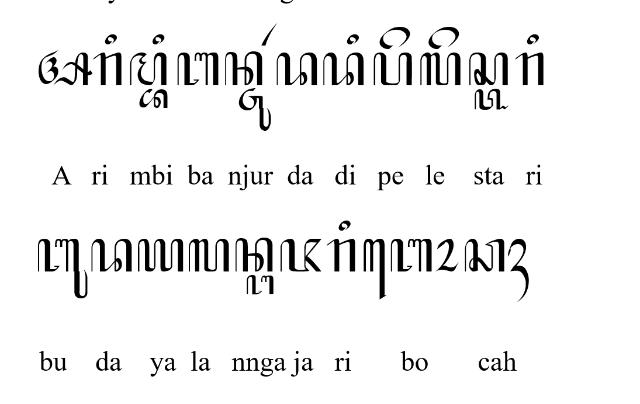A: (38, 50, 94, 87)
_b: (138, 88, 168, 110)
_h1: (508, 239, 530, 303)
_ju: (238, 88, 272, 132)
_r1: (260, 22, 278, 46)
_t: (474, 89, 510, 111)
b: (177, 52, 219, 86), (390, 238, 432, 272)
bu: (36, 238, 88, 298)
c: (464, 238, 506, 272)
d: (90, 239, 134, 273), (276, 52, 318, 86), (323, 52, 365, 86)
e: (380, 26, 410, 50), (428, 27, 460, 49)
e1: (364, 238, 386, 300)
i: (104, 34, 118, 44), (526, 34, 540, 44), (153, 34, 165, 44), (347, 34, 359, 44), (339, 221, 351, 231)
j: (279, 239, 321, 273)
l: (420, 52, 460, 86), (188, 238, 228, 272)
m: (129, 52, 167, 86)
n: (225, 51, 263, 85), (235, 238, 273, 272)
nga: (246, 274, 274, 296)
o: (436, 238, 458, 272)
p: (372, 52, 412, 86)
r: (92, 52, 121, 86), (516, 52, 544, 86), (327, 238, 355, 272)
s: (469, 52, 509, 86)
y: (138, 238, 185, 272)
